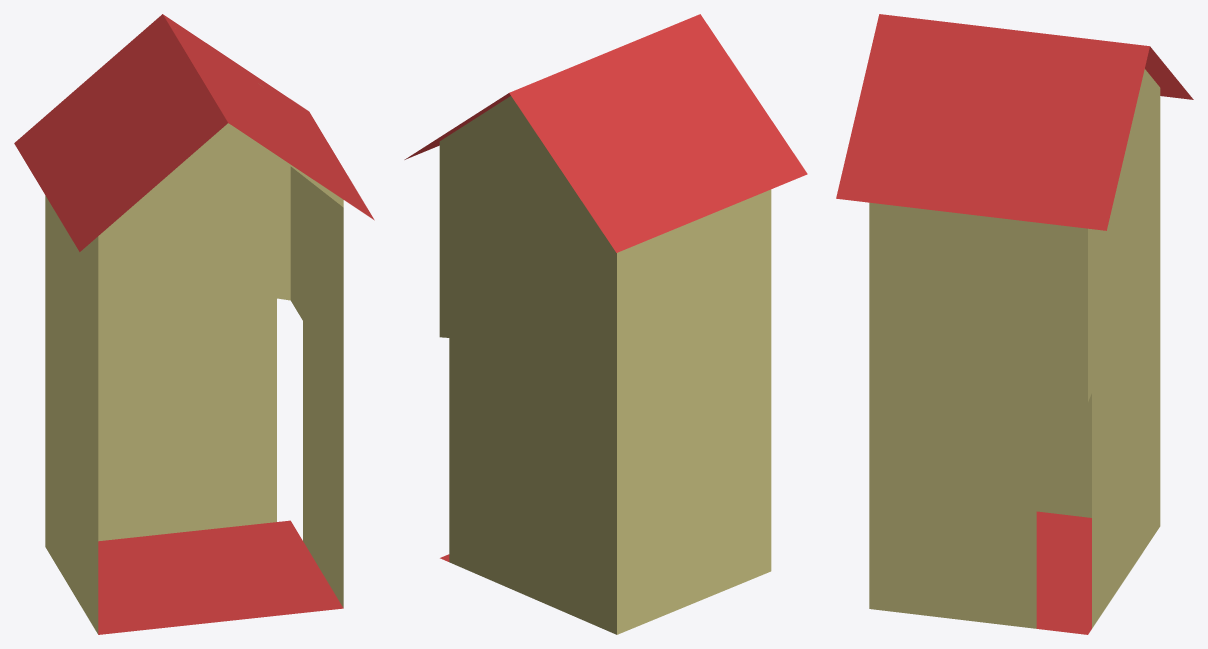
3 views of the same model, side by side, from view 1: azimuth 30°, elevation 25°; view 2: azimuth 150°, elevation 25°; view 3: azimuth 270°, elevation 25° (orthographic). The views are drawn at different scales.
Size of the model in its own units: 10.67 by 9.89 by 16.4.
